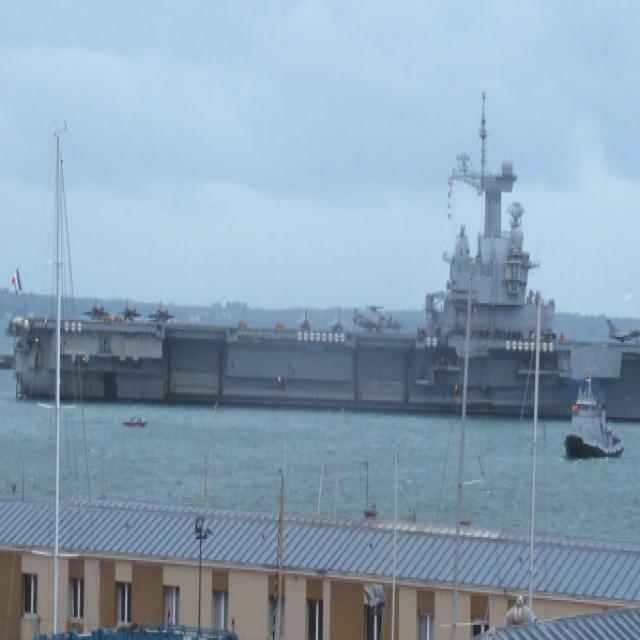Portanaves: (1, 87, 640, 430)
